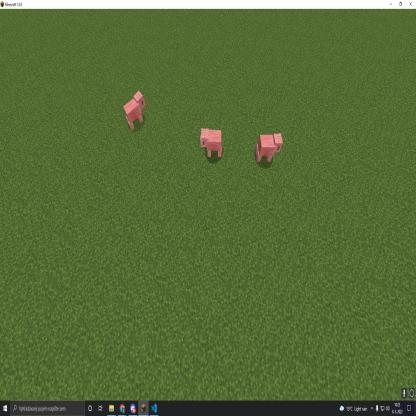pig: (253, 128, 287, 172), (196, 122, 227, 164), (122, 87, 149, 134)
